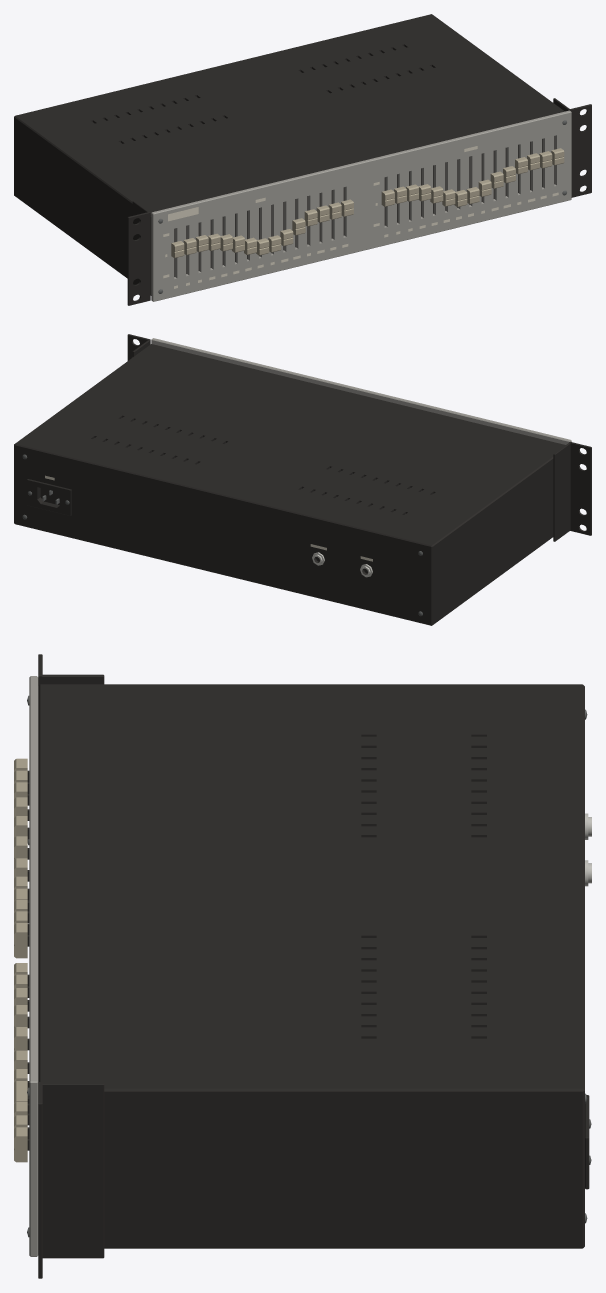
Rendered from graphic-eq-e96b64f3b96a.glb.
3 renders of one model, top to bottom at view 1: azimuth 30°, elevation 25°; view 2: azimuth 150°, elevation 25°; view 3: azimuth 270°, elevation 25°, orthographic. The views are drawn at different scales.
Visible parts, largest first — view 1: plastic-dark, brushed, plastic-light, decal-ink; view 2: plastic-dark, brushed; view 3: plastic-dark, brushed, plastic-light.
Boxes of the visible parts, left/top/right/bottom form: plastic-dark: left=14, top=14, right=591, bottom=305; brushed: left=151, top=110, right=571, bottom=301; plastic-light: left=171, top=148, right=564, bottom=258; decal-ink: left=163, top=146, right=558, bottom=288; plastic-dark: left=14, top=334, right=591, bottom=625; brushed: left=151, top=338, right=571, bottom=444; plastic-dark: left=27, top=654, right=589, bottom=1278; brushed: left=29, top=676, right=38, bottom=1256; plastic-light: left=14, top=758, right=27, bottom=1162.
Bounding box in the file's own units: 0.4826 × 0.088 × 0.2622.
